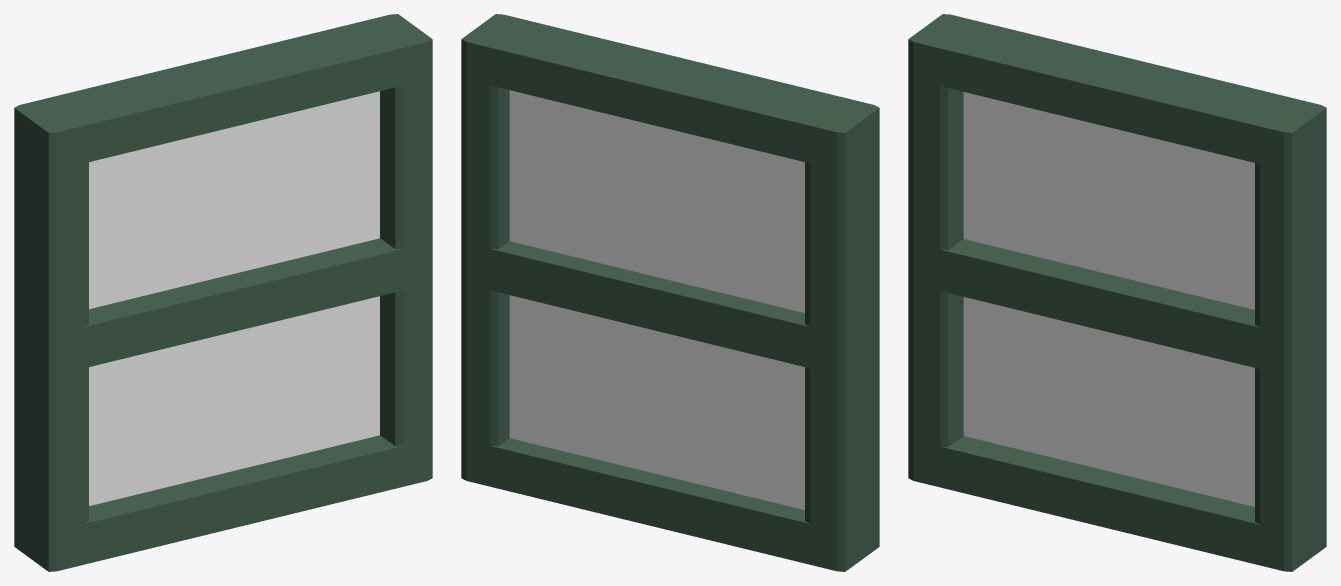
File: Bathroom_Window.fbx
3 renders of one model, left to right at view 1: azimuth 30°, elevation 25°; view 2: azimuth 150°, elevation 25°; view 3: azimuth 330°, elevation 25°, orthographic.
Visible parts, largest first — view 1: Bathroom_Window.001, Bathroom_Window; view 2: Bathroom_Window.001, Bathroom_Window; view 3: Bathroom_Window.001, Bathroom_Window.
Boxes of the visible parts, x1,y1,x2,y2 form: Bathroom_Window.001: (14, 14, 432, 571); Bathroom_Window: (89, 91, 379, 505); Bathroom_Window.001: (461, 14, 879, 571); Bathroom_Window: (509, 90, 804, 509); Bathroom_Window.001: (908, 14, 1326, 571); Bathroom_Window: (963, 92, 1254, 506).
Bounding box in the file's own units: 106 × 116 × 17.92.
